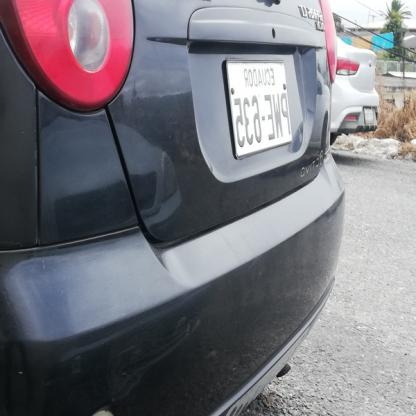Placa: (224, 54, 299, 157)
